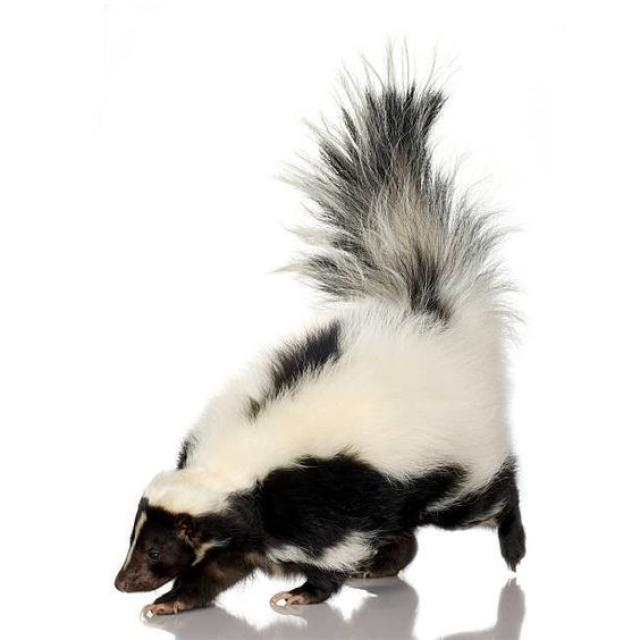Skunk: (101, 54, 555, 630)
